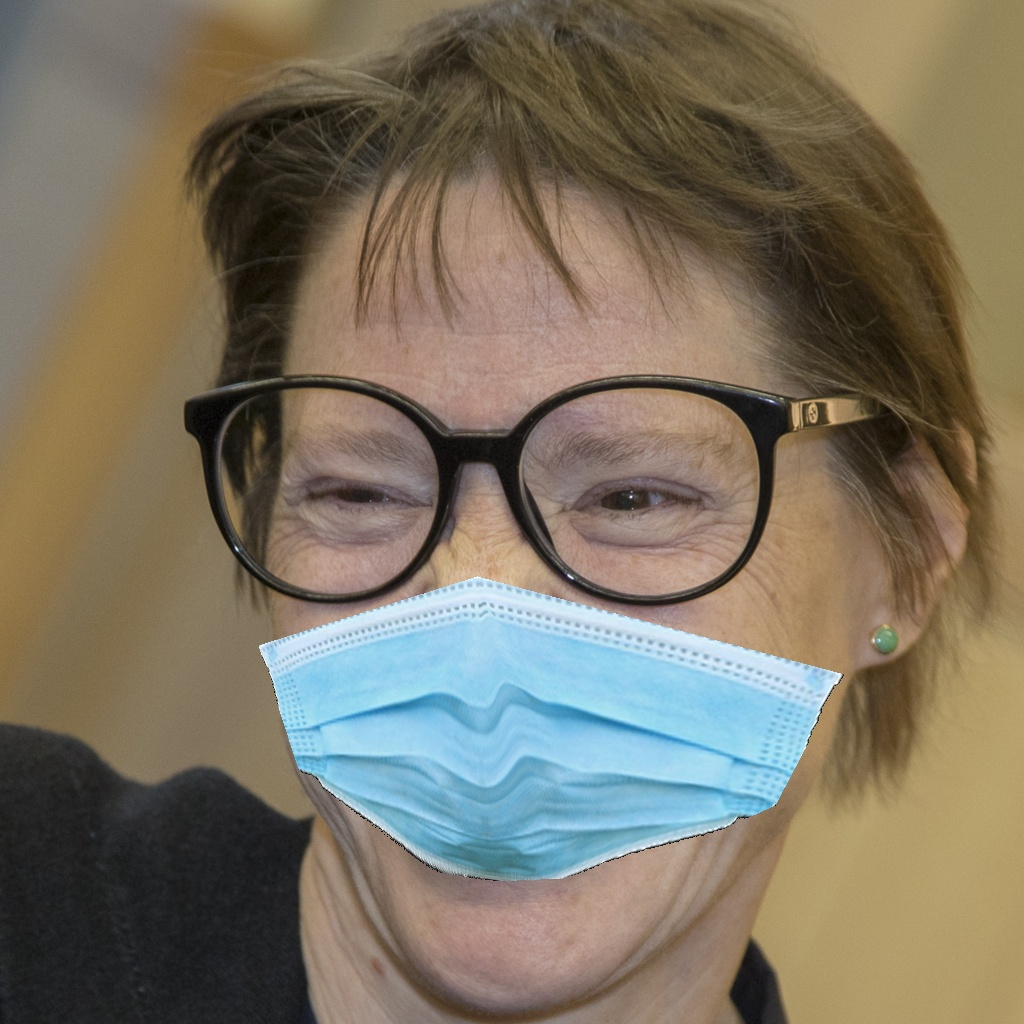mask_weared_incorrect: (183, 334, 862, 918)
